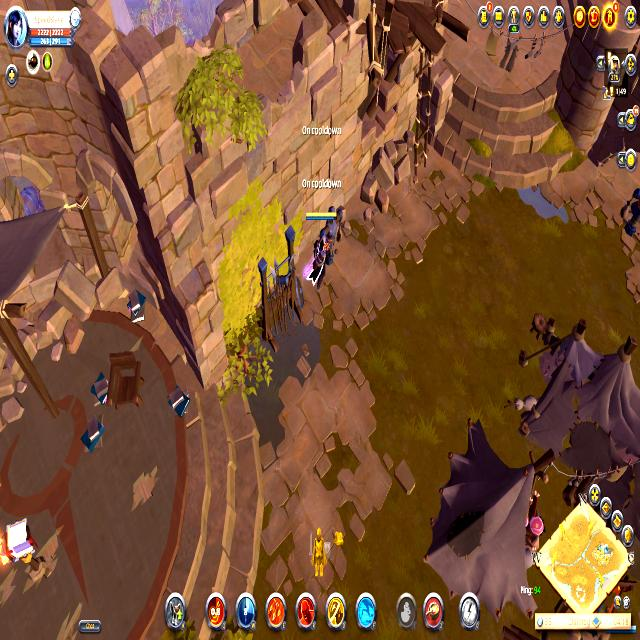red: (301, 206, 341, 294)
